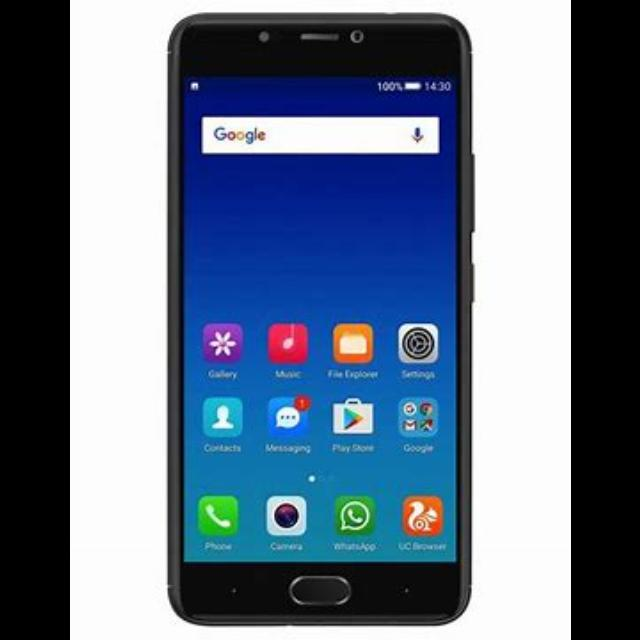Smartphone: (163, 9, 474, 636)
